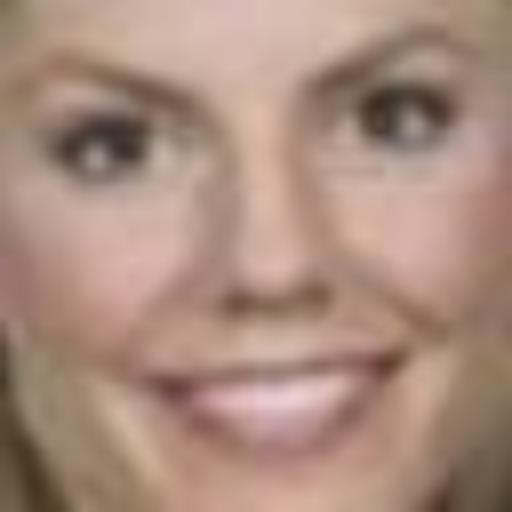left_eye: (326, 77, 473, 155)
left_lip_corner: (371, 345, 412, 380)
right_eye: (51, 113, 196, 182)
right_lip_corner: (149, 366, 198, 408)
